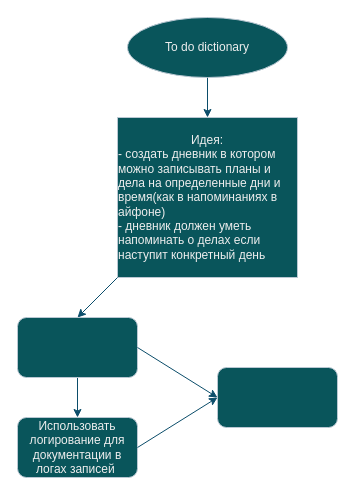
This 355x495 diagram has some shape labels left out. The shapes that lost their labels are listed below. From the top down, each one's centre as x and y in pixels, then its label:
At [77,347]: "Реализация через классы (использова ть ООП)".
At [277,397]: "Удобный интерфейс".
